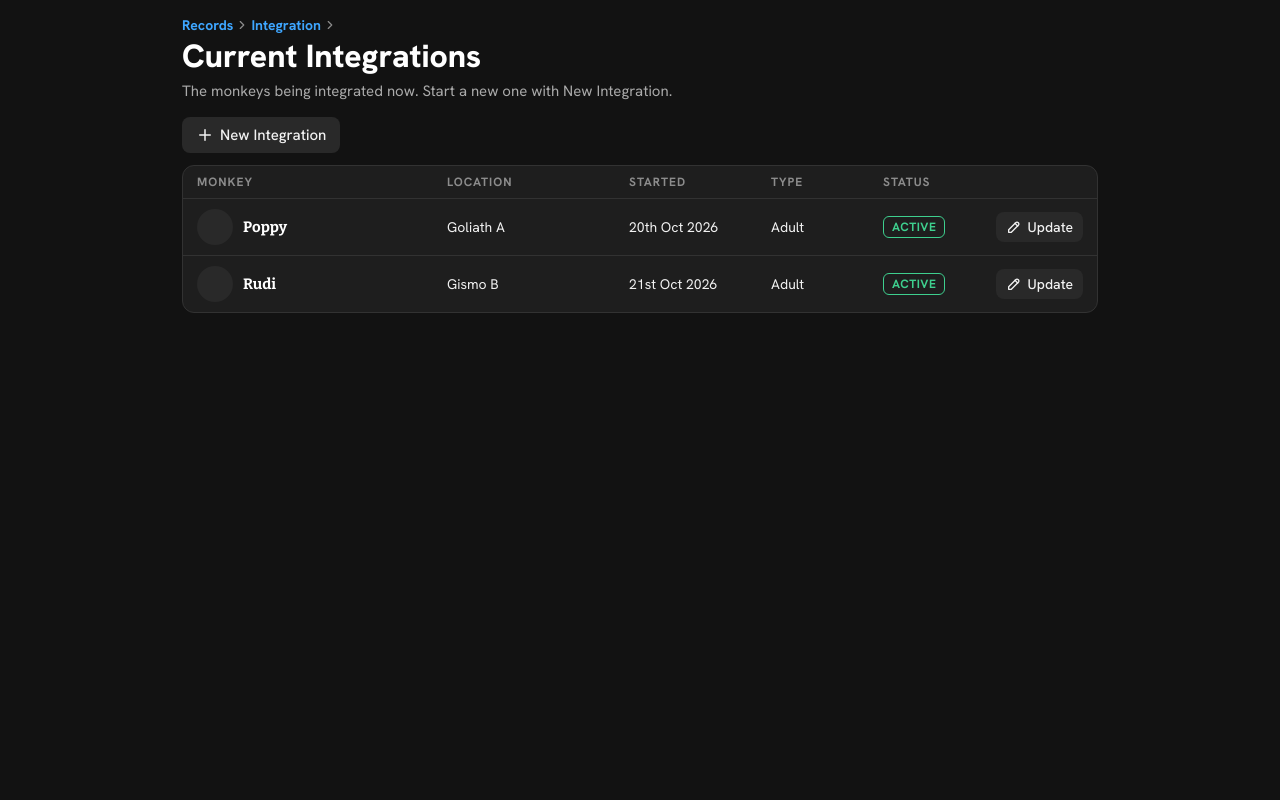
Scenario: Current Integrations › Update → Cancelled: a red Confirm; it leaves the list
Click the button with aria-label "Update, Poppy" at (1039, 227), box [996, 212, 1083, 242]
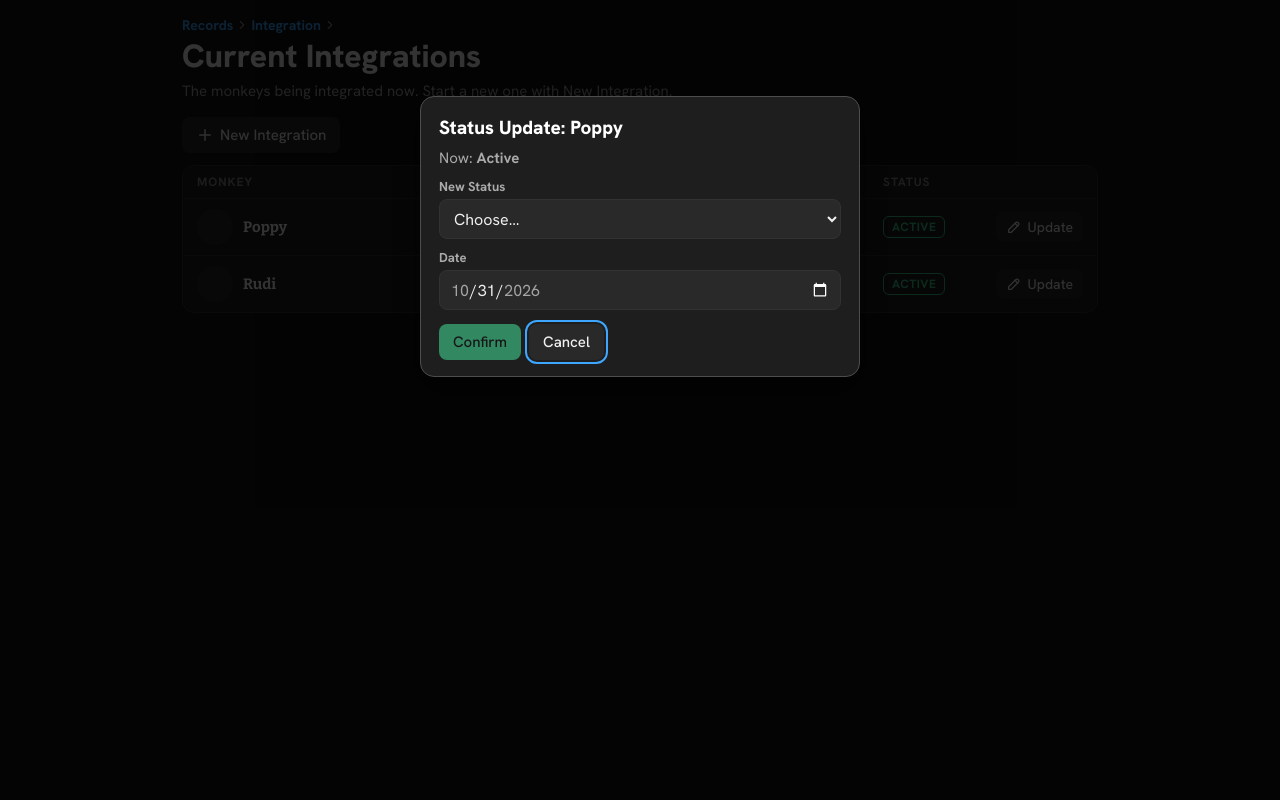
Select "Cancelled" in the dropdown labelled "New Status" at (640, 219), box [439, 199, 841, 239]
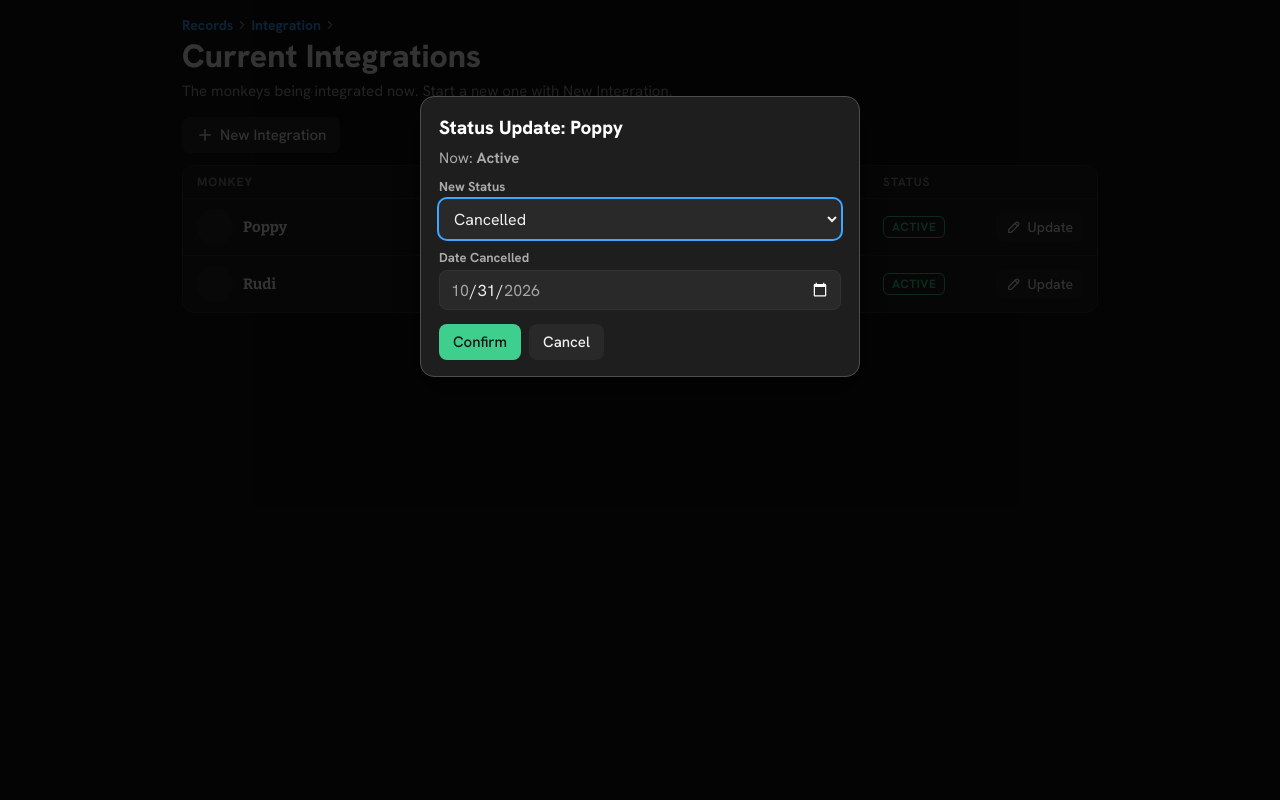
Click the button "Confirm" at (480, 342), box [439, 324, 521, 360]
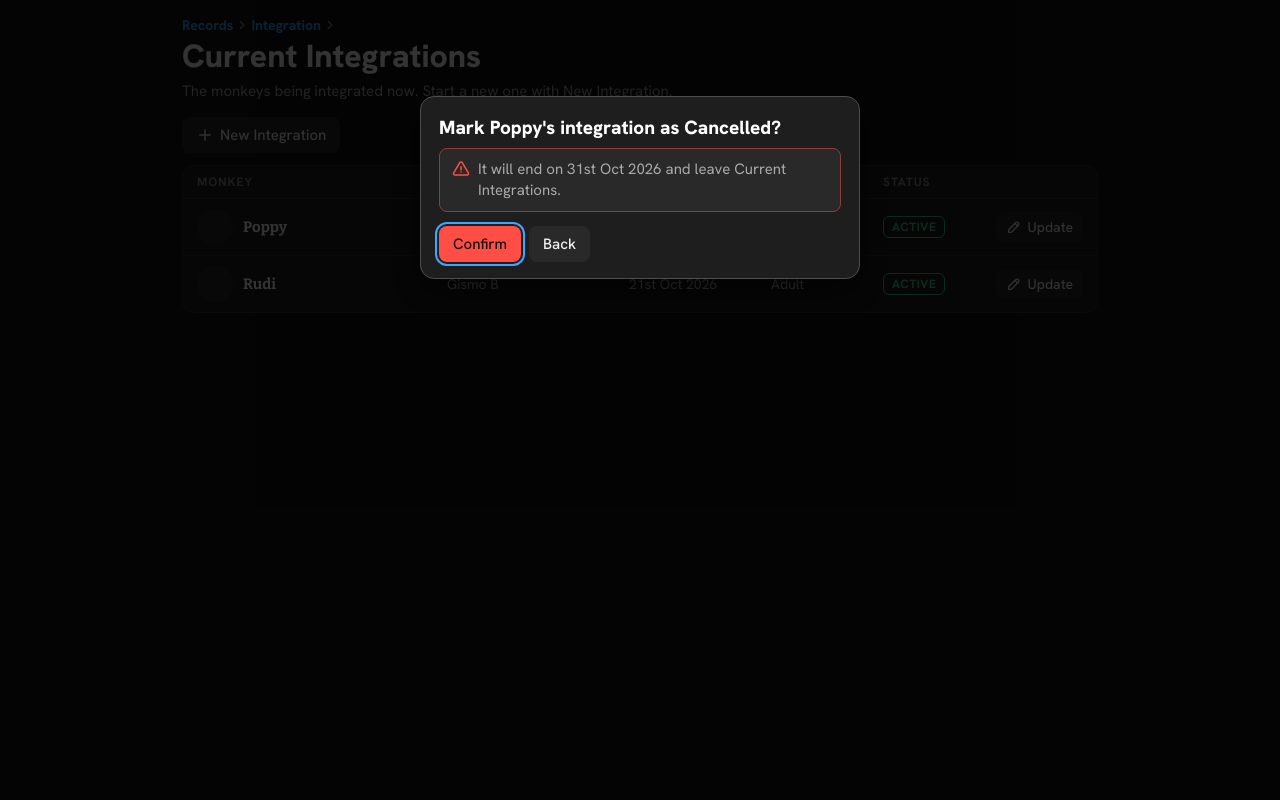
Result: the button "Confirm" has class "is-danger"
Click the button "Confirm" at (480, 244), box [439, 226, 521, 262]
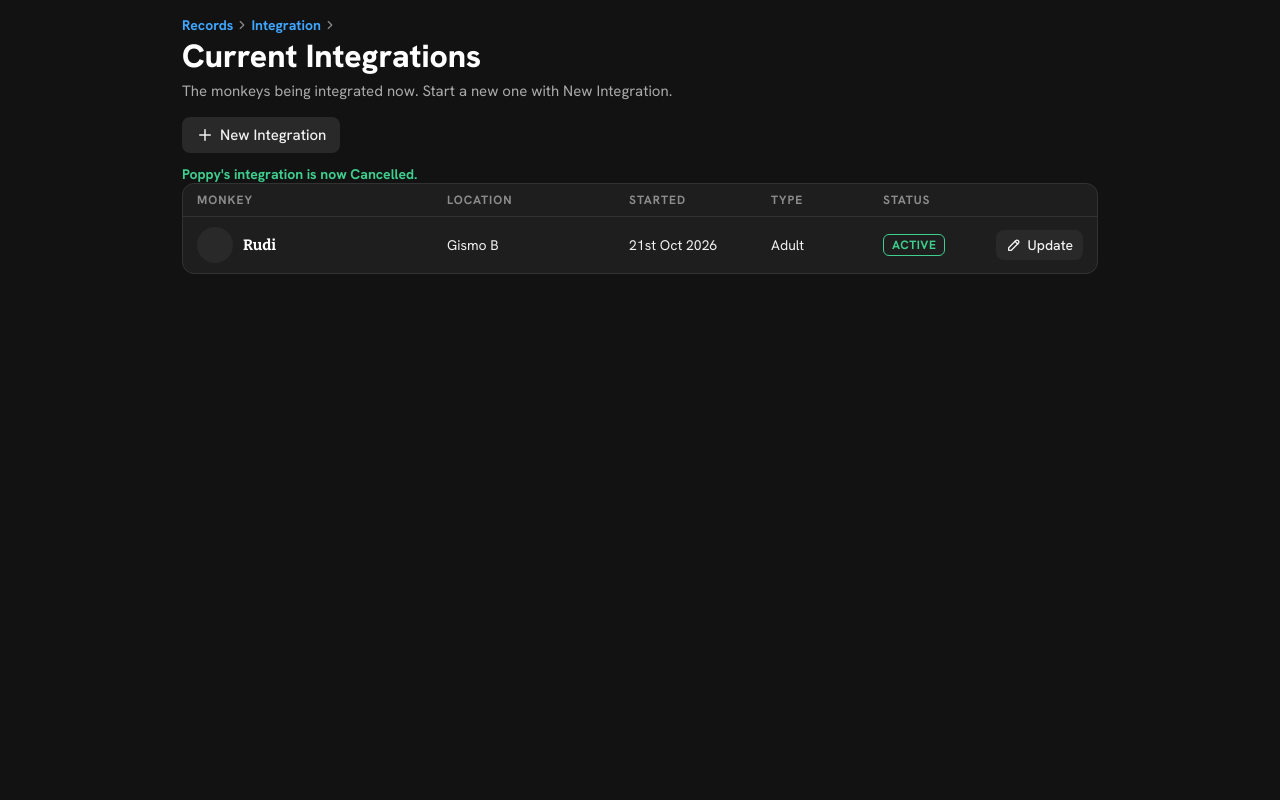
Expected: the text "Rudi" is shown, [243, 236, 276, 254]
Result: the text "Poppy's integration is now Cancelled." is shown at [182, 165, 417, 183]
